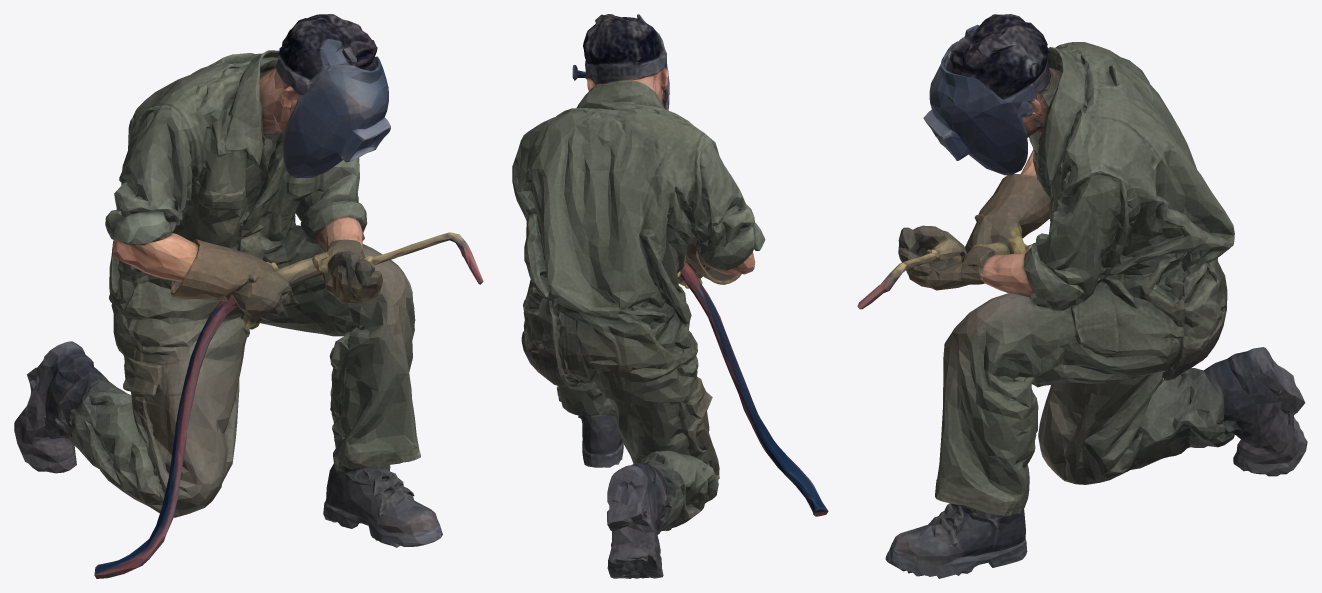
File: mechanic.obj
The picture shows the model from 3 angles, left to right: view 1: azimuth 30°, elevation 25°; view 2: azimuth 150°, elevation 25°; view 3: azimuth 270°, elevation 25°; orthographic projection. The views are drawn at different scales.
Visible parts, largest first — view 1: mechanic; view 2: mechanic; view 3: mechanic.
Part boxes in pixels (x1,y1,x2,y2): mechanic: (14,14,483,578); mechanic: (512,14,828,578); mechanic: (857,14,1307,578).
Bounding box in the file's own units: 0.8652 × 1.3 × 1.01.
Materials: 1 (1 with a texture image).
